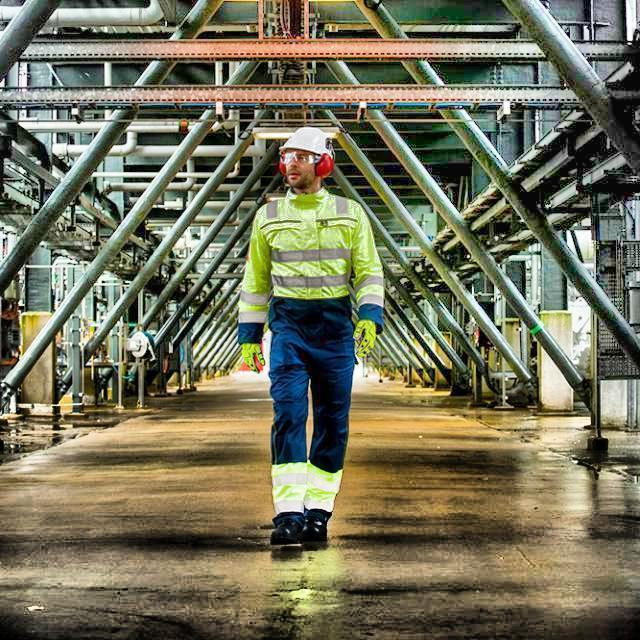safety_helmet: (282, 128, 334, 159)
safety_jacket: (246, 186, 360, 311)
